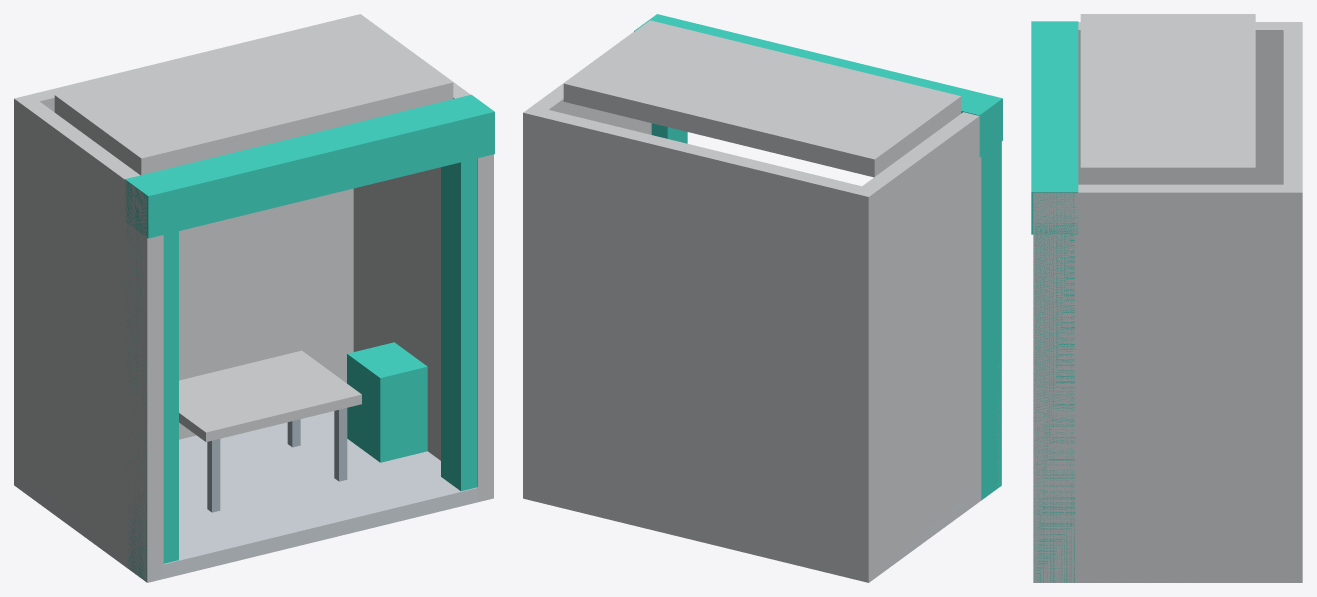
The picture shows the model from 3 angles, left to right: view 1: azimuth 30°, elevation 25°; view 2: azimuth 150°, elevation 25°; view 3: azimuth 270°, elevation 25°; orthographic projection.
Visible parts, largest first — view 1: Exhibition Booth Concept; view 2: Exhibition Booth Concept; view 3: Exhibition Booth Concept.
Part boxes in pixels (x1,y1,x2,y2): Exhibition Booth Concept: (14,14,494,582); Exhibition Booth Concept: (523,14,1002,582); Exhibition Booth Concept: (1031,14,1302,582).
Size of the model in its own units: 3 by 3.34 by 2.01.
